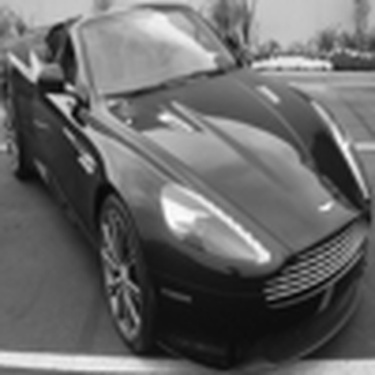car: (11, 5, 366, 361)
